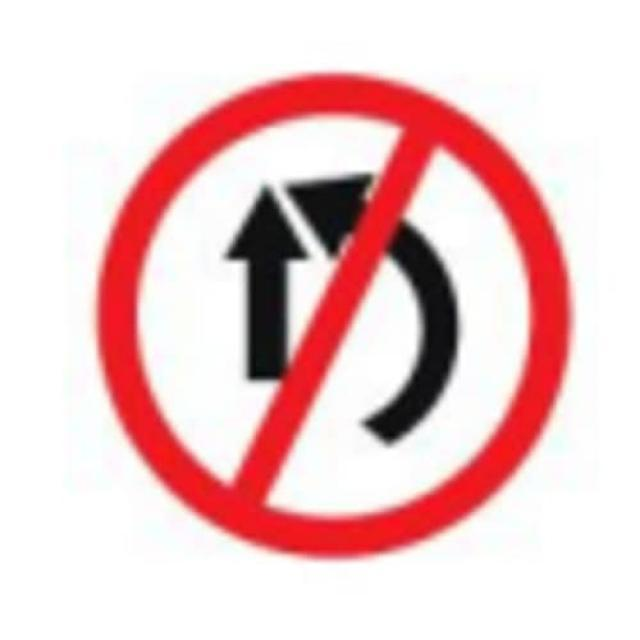overtaking prohibited: (97, 68, 570, 560)
